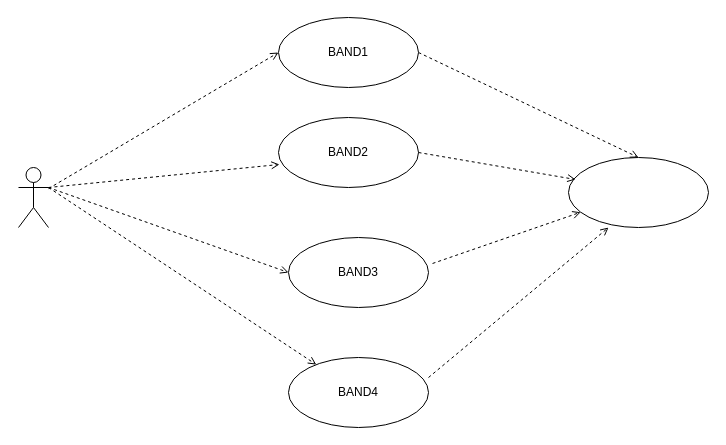
This 726x445 diagram has some shape labels left out. Each missing label, with the centre of its shape:
RESISTANCE COLOUR CODE FUNCTIONS: point (638, 192)
USER: point (33, 197)
